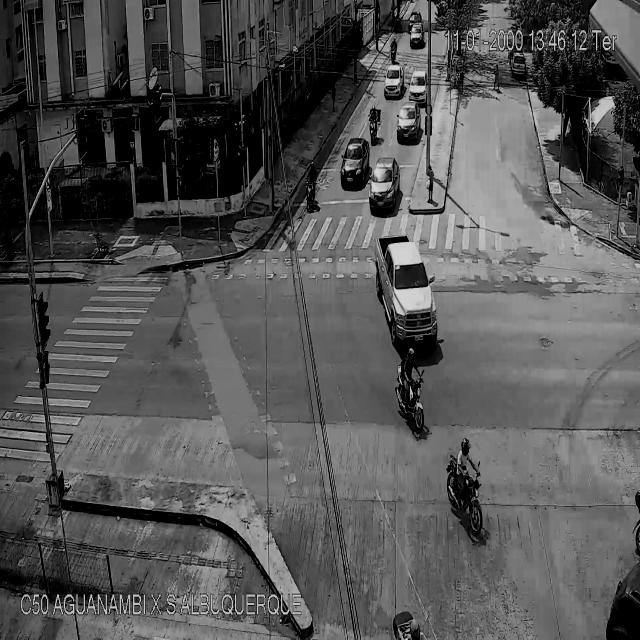Car: (375, 231, 441, 350), (368, 156, 398, 214), (342, 138, 366, 189), (396, 106, 418, 142), (407, 68, 427, 107), (384, 64, 402, 96), (409, 22, 423, 50), (511, 53, 524, 80), (408, 12, 422, 32)
Motorcycle: (447, 439, 487, 539), (396, 344, 424, 433), (305, 161, 317, 211), (369, 104, 381, 140), (389, 38, 397, 65)
